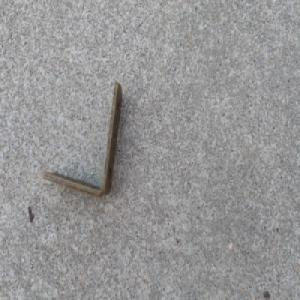MetalPart: (41, 80, 123, 199)
